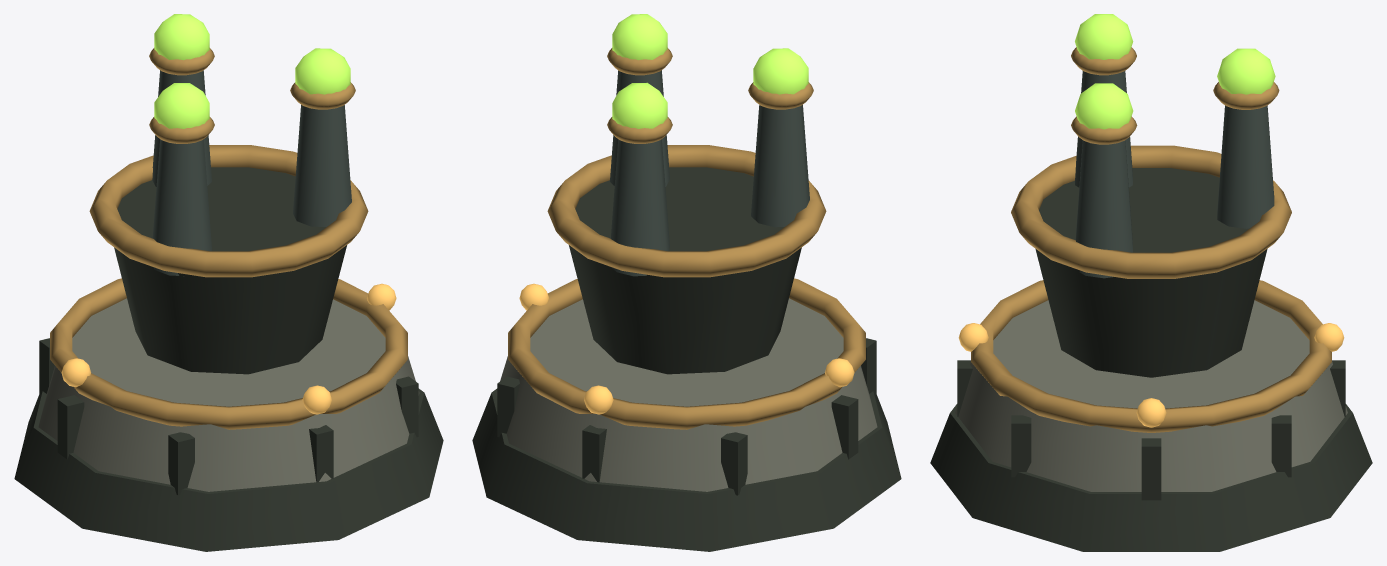
The model's file is tower_poison_poisonCauldron_ultimate.glb.
3 views of the same model, side by side, from view 1: azimuth 30°, elevation 25°; view 2: azimuth 150°, elevation 25°; view 3: azimuth 270°, elevation 25° (orthographic).
Visible parts, largest first — view 1: stone_1, vessel_15, foot_0, rim_2, vessel_lip_17, chimney_21, chimney_24, spore_23, spore_20, spore_26, mortar_6, mortar_7 (+10 smaller); view 2: stone_1, vessel_15, foot_0, rim_2, vessel_lip_17, chimney_24, chimney_18, spore_26, spore_23, spore_20, mortar_8, mortar_7 (+10 smaller); view 3: stone_1, vessel_15, foot_0, rim_2, vessel_lip_17, chimney_18, chimney_21, spore_23, spore_20, spore_26, mortar_3, mortar_4 (+10 smaller).
Part boxes in pixels (x1=…): stone_1: x1=38, y1=298, x2=419, y2=491; vessel_15: x1=114, y1=167, x2=346, y2=374; foot_0: x1=14, y1=388, x2=443, y2=551; rim_2: x1=50, y1=278, x2=407, y2=429; vessel_lip_17: x1=89, y1=145, x2=368, y2=277; chimney_21: x1=293, y1=105, x2=351, y2=226; chimney_24: x1=152, y1=139, x2=211, y2=276; spore_23: x1=295, y1=48, x2=350, y2=94; spore_20: x1=154, y1=14, x2=209, y2=60; spore_26: x1=154, y1=83, x2=209, y2=128; mortar_6: x1=168, y1=432, x2=194, y2=495; mortar_7: x1=57, y1=395, x2=84, y2=459; stone_1: x1=496, y1=298, x2=877, y2=491; vessel_15: x1=569, y1=167, x2=801, y2=374; foot_0: x1=472, y1=388, x2=901, y2=551; rim_2: x1=508, y1=278, x2=865, y2=429; vessel_lip_17: x1=547, y1=145, x2=826, y2=277; chimney_24: x1=751, y1=105, x2=809, y2=227; chimney_18: x1=610, y1=139, x2=669, y2=276; spore_26: x1=753, y1=48, x2=808, y2=94; spore_23: x1=612, y1=14, x2=667, y2=60; spore_20: x1=612, y1=82, x2=667, y2=128; mortar_8: x1=721, y1=432, x2=747, y2=495; mortar_7: x1=831, y1=395, x2=858, y2=459; stone_1: x1=955, y1=300, x2=1347, y2=491; vessel_15: x1=1035, y1=168, x2=1267, y2=377; foot_0: x1=930, y1=404, x2=1372, y2=551; rim_2: x1=971, y1=280, x2=1331, y2=432; vessel_lip_17: x1=1011, y1=145, x2=1291, y2=278; chimney_18: x1=1217, y1=105, x2=1274, y2=228; chimney_21: x1=1075, y1=140, x2=1132, y2=278; spore_23: x1=1075, y1=83, x2=1133, y2=129; spore_20: x1=1217, y1=48, x2=1275, y2=94; spore_26: x1=1075, y1=14, x2=1133, y2=59; mortar_3: x1=1141, y1=438, x2=1161, y2=500; mortar_4: x1=1011, y1=415, x2=1031, y2=477.
Bounding box in the file's own units: 0.5326 × 0.577 × 0.56.
